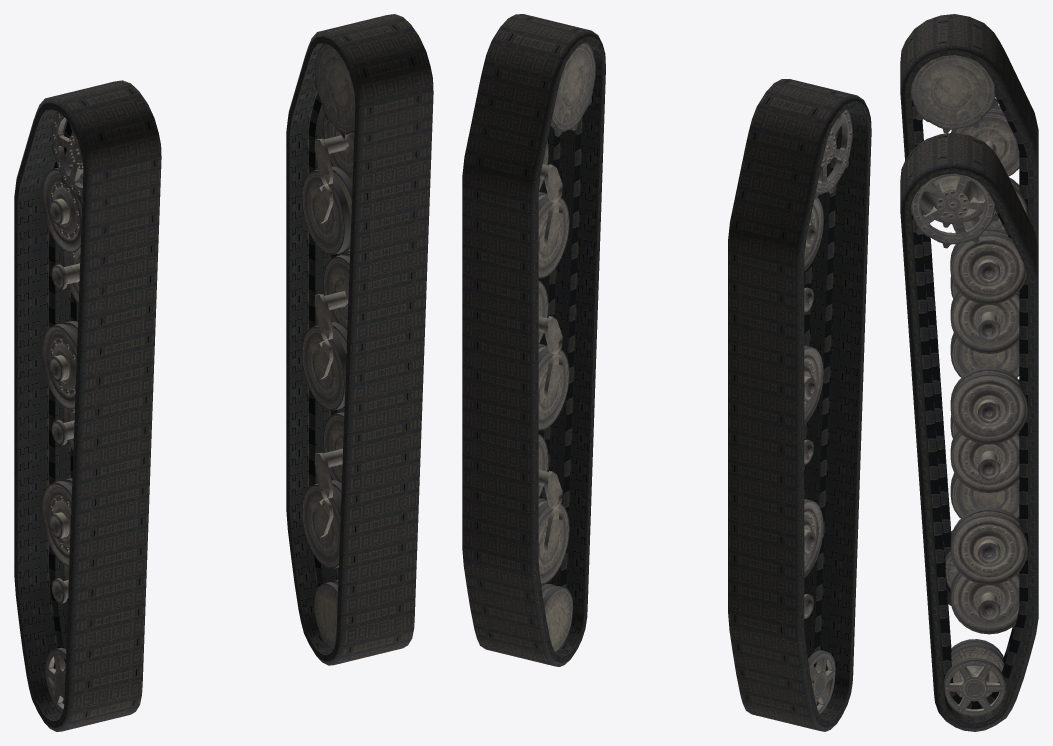
Rendered from Chassis.glb.
3 renders of one model, left to right at view 1: azimuth 30°, elevation 25°; view 2: azimuth 150°, elevation 25°; view 3: azimuth 270°, elevation 25°, orthographic. The views are drawn at different scales.
Visible parts, largest first — view 1: set_1_group_0, set_0_group_0, set_3_group_0, set_2_group_0; view 2: set_1_group_0, set_0_group_0, set_3_group_0, set_2_group_0; view 3: set_3_group_0, set_0_group_0, set_1_group_0, set_2_group_0.
Boxes of the visible parts, x1=… form: set_1_group_0: x1=14, y1=80, x2=161, y2=731; set_0_group_0: x1=286, y1=14, x2=433, y2=665; set_3_group_0: x1=301, y1=43, x2=355, y2=650; set_2_group_0: x1=41, y1=111, x2=83, y2=714; set_1_group_0: x1=728, y1=79, x2=871, y2=731; set_0_group_0: x1=462, y1=14, x2=605, y2=666; set_3_group_0: x1=538, y1=42, x2=595, y2=652; set_2_group_0: x1=804, y1=109, x2=852, y2=714; set_3_group_0: x1=911, y1=173, x2=1027, y2=716; set_0_group_0: x1=900, y1=132, x2=1038, y2=731; set_1_group_0: x1=900, y1=14, x2=1038, y2=605; set_2_group_0: x1=911, y1=55, x2=1027, y2=588.
Bounding box in the file's own units: 3.71 × 6.51 × 1.43.
Materials: 4 (4 with a texture image).
